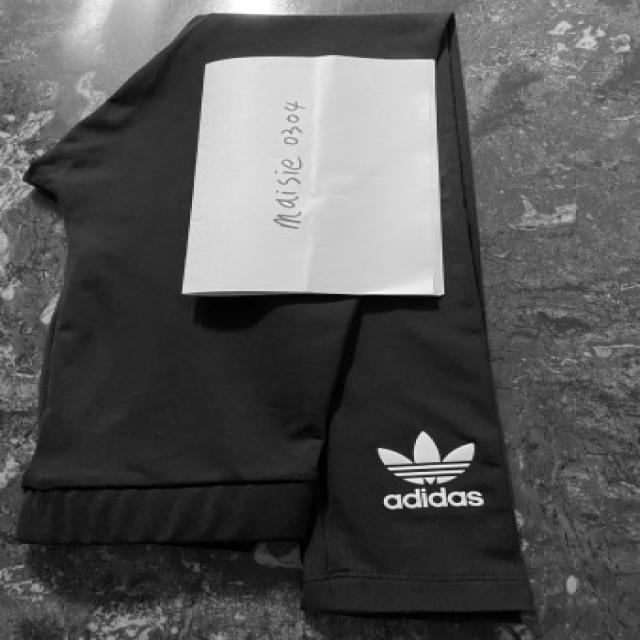Adidas: (367, 427, 484, 489)
